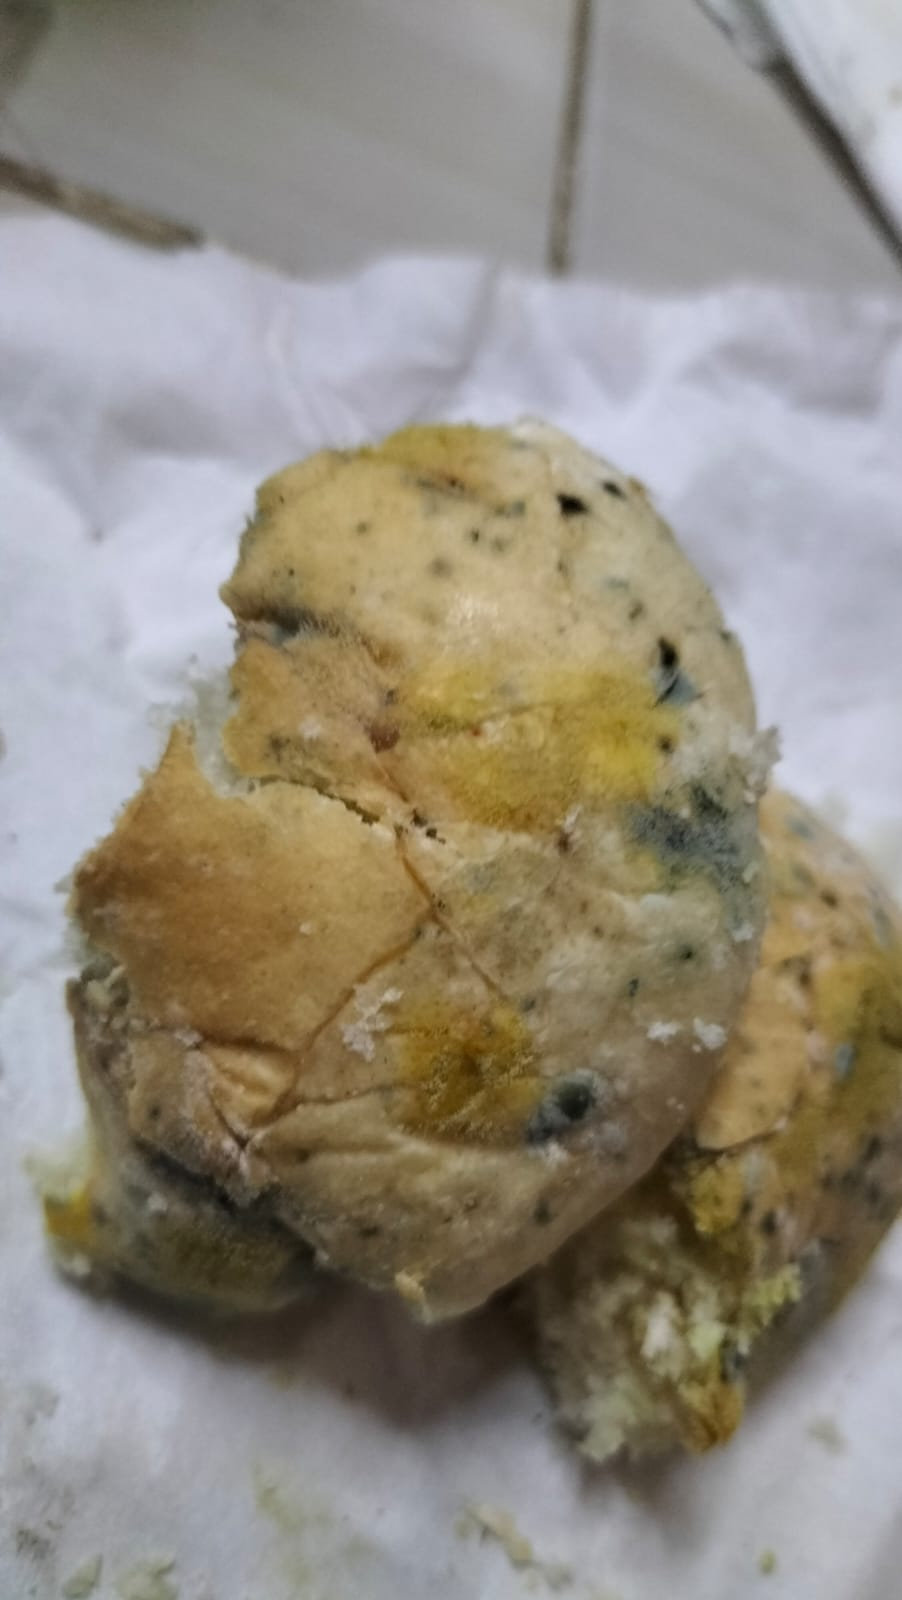mold_bread: (633, 768, 767, 918), (525, 1059, 616, 1156), (642, 625, 712, 714), (255, 573, 318, 649), (552, 487, 592, 527), (599, 475, 635, 508), (669, 935, 699, 975), (653, 726, 680, 759), (623, 970, 647, 1004)
